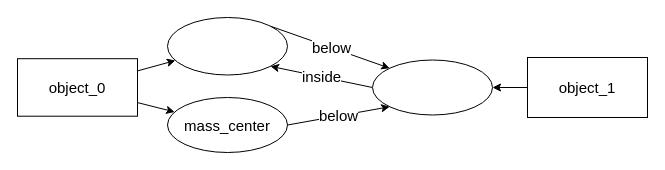
Some shapes in this 665 by 170 pixel diagram are drawn without their labels. Here are the shapes that lost their labels. From the top down, the box of each, then its label:
(166, 16, 288, 75): hole
(372, 59, 492, 115): peg
